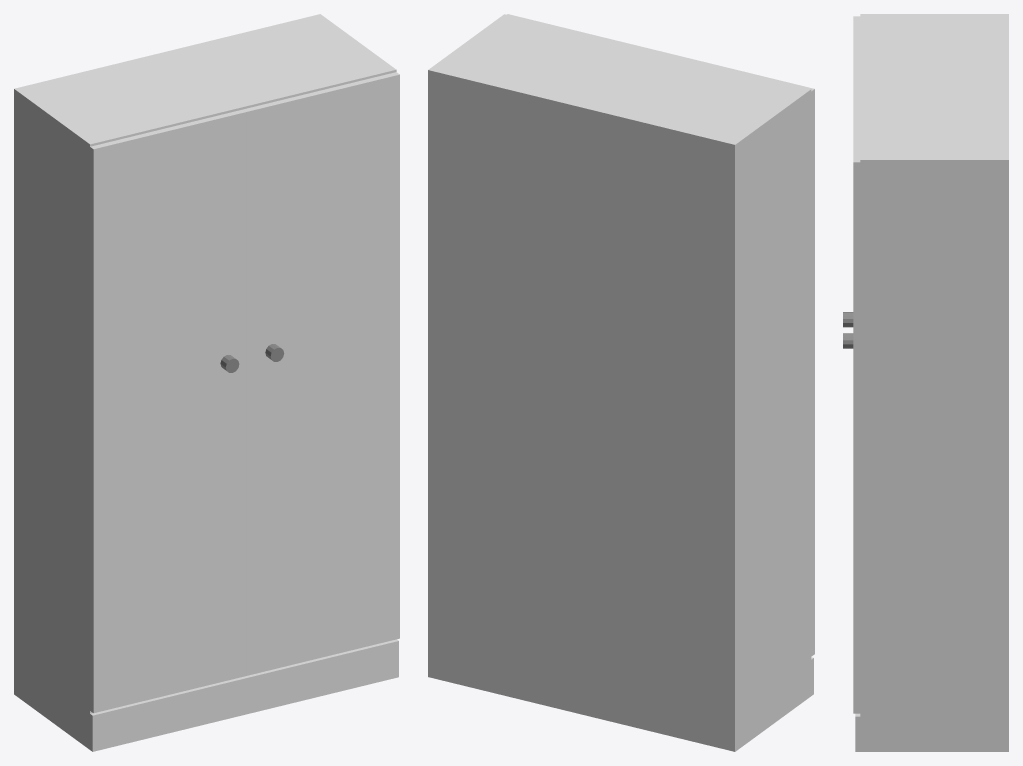
File: LC_3177_iron_locker_LOD3.fbx
The picture shows the model from 3 angles, left to right: view 1: azimuth 30°, elevation 25°; view 2: azimuth 150°, elevation 25°; view 3: azimuth 270°, elevation 25°; orthographic projection. The views are drawn at different scales.
Visible parts, largest first — view 1: LC_3177_il_LOD3; view 2: LC_3177_il_LOD3; view 3: LC_3177_il_LOD3.
Part boxes in pixels (x1,y1,x2,y2): LC_3177_il_LOD3: [14, 14, 399, 751]; LC_3177_il_LOD3: [428, 14, 814, 751]; LC_3177_il_LOD3: [843, 14, 1008, 751].
Size of the model in its own units: 90.01 by 170 by 43.19.
1 material, 1 textured.
